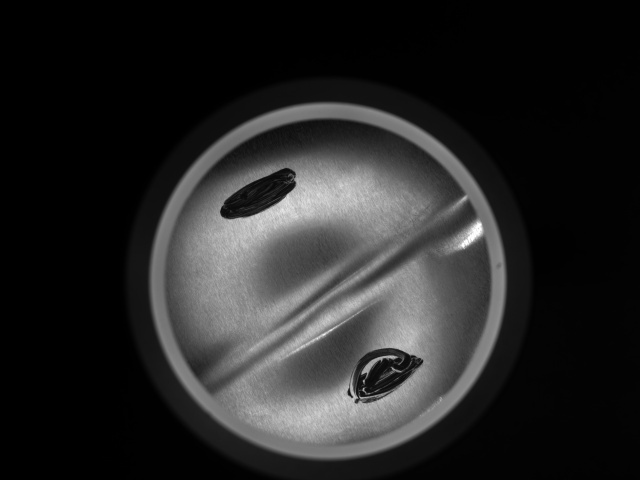zang_wu: (345, 346, 425, 405), (216, 164, 300, 220)
zhe_zhou: (205, 152, 448, 413)
